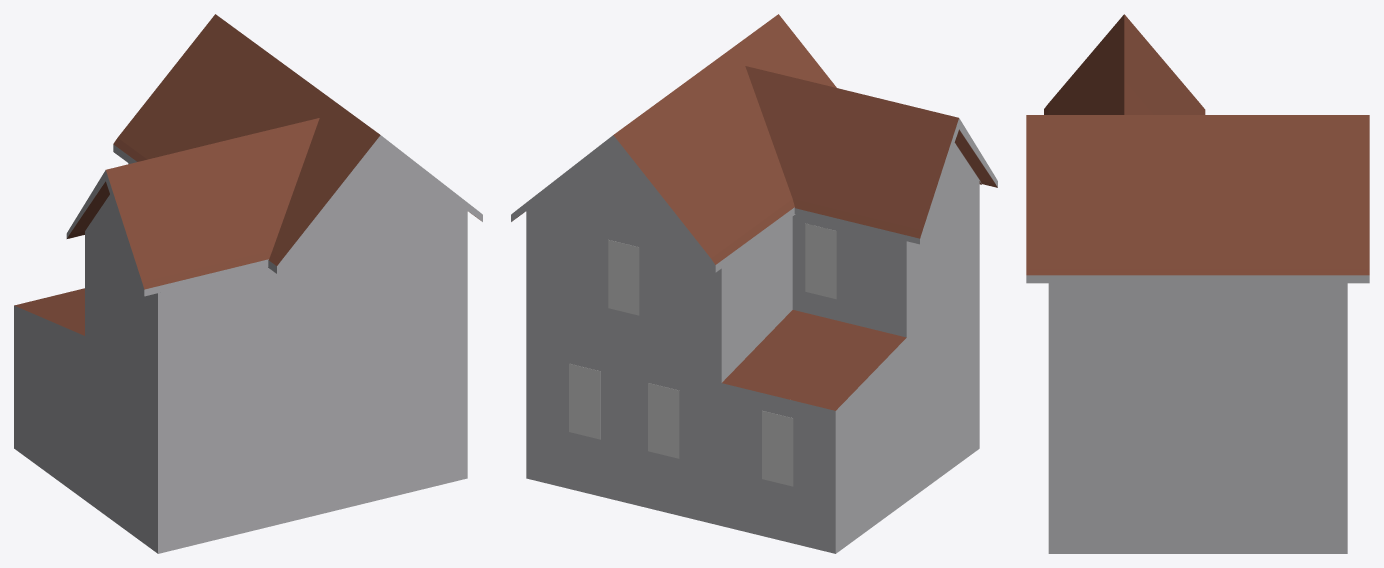
The model's file is DREAMCORE_SimpleHouse.fbx.
3 views of the same model, side by side, from view 1: azimuth 30°, elevation 25°; view 2: azimuth 150°, elevation 25°; view 3: azimuth 270°, elevation 25° (orthographic). The views are drawn at different scales.
Parts seen in each view (by area): view 1: 큐브.001; view 2: 큐브.001, 큐브.002, 큐브.003, 큐브.004, 큐브.005, 큐브; view 3: 큐브.001.
Boxes of the visible parts, bbox=[...] form: 큐브.001: bbox=[14, 14, 482, 553]; 큐브.001: bbox=[511, 14, 997, 553]; 큐브.002: bbox=[569, 363, 600, 439]; 큐브.003: bbox=[648, 383, 679, 458]; 큐브.004: bbox=[762, 410, 793, 486]; 큐브.005: bbox=[805, 223, 836, 299]; 큐브: bbox=[608, 240, 639, 315]; 큐브.001: bbox=[1026, 14, 1369, 553].
Bounding box in the file's own units: 751 × 816 × 652.
